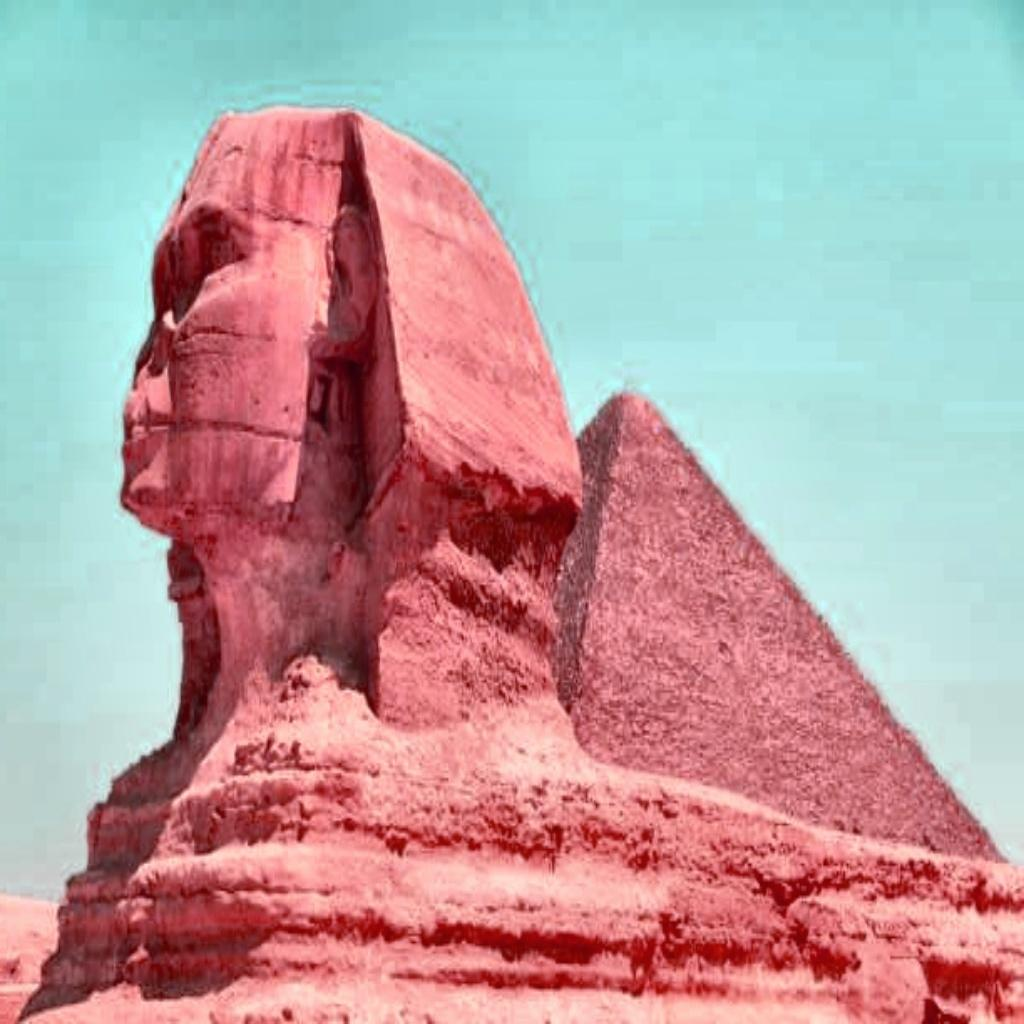Sphinx: (18, 100, 1022, 1019)
